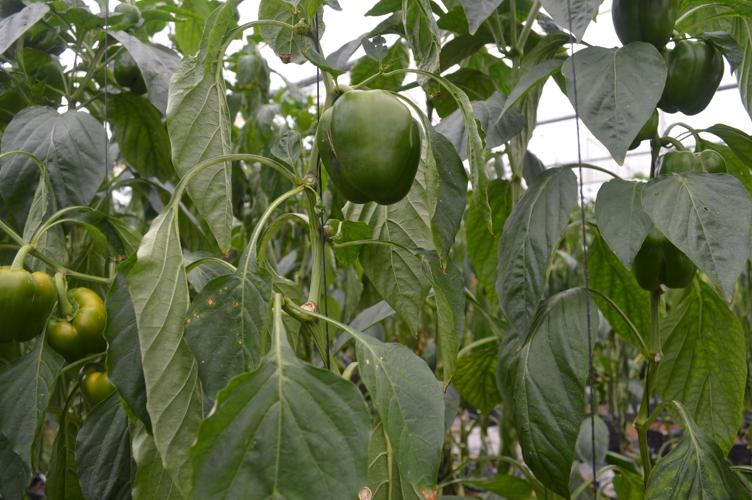BellPepper: (315, 89, 420, 205), (648, 41, 723, 115), (45, 288, 106, 360), (1, 269, 58, 344), (623, 237, 694, 296), (608, 3, 673, 47), (651, 151, 728, 178)
